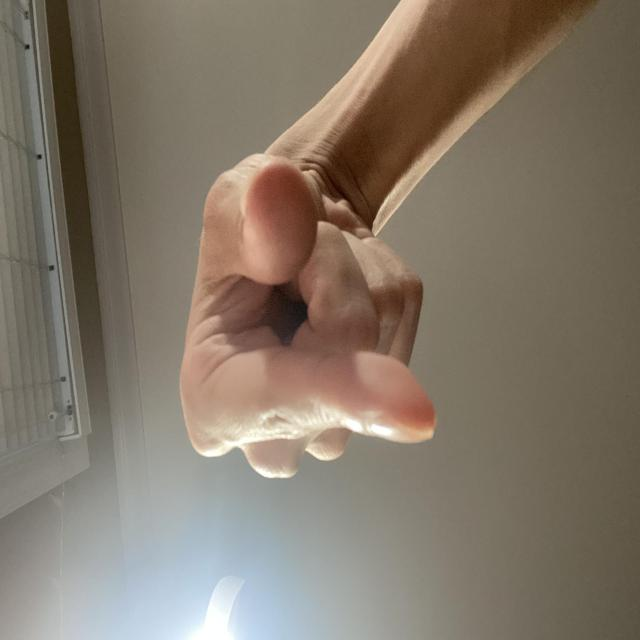Q: (107, 230, 372, 588)
